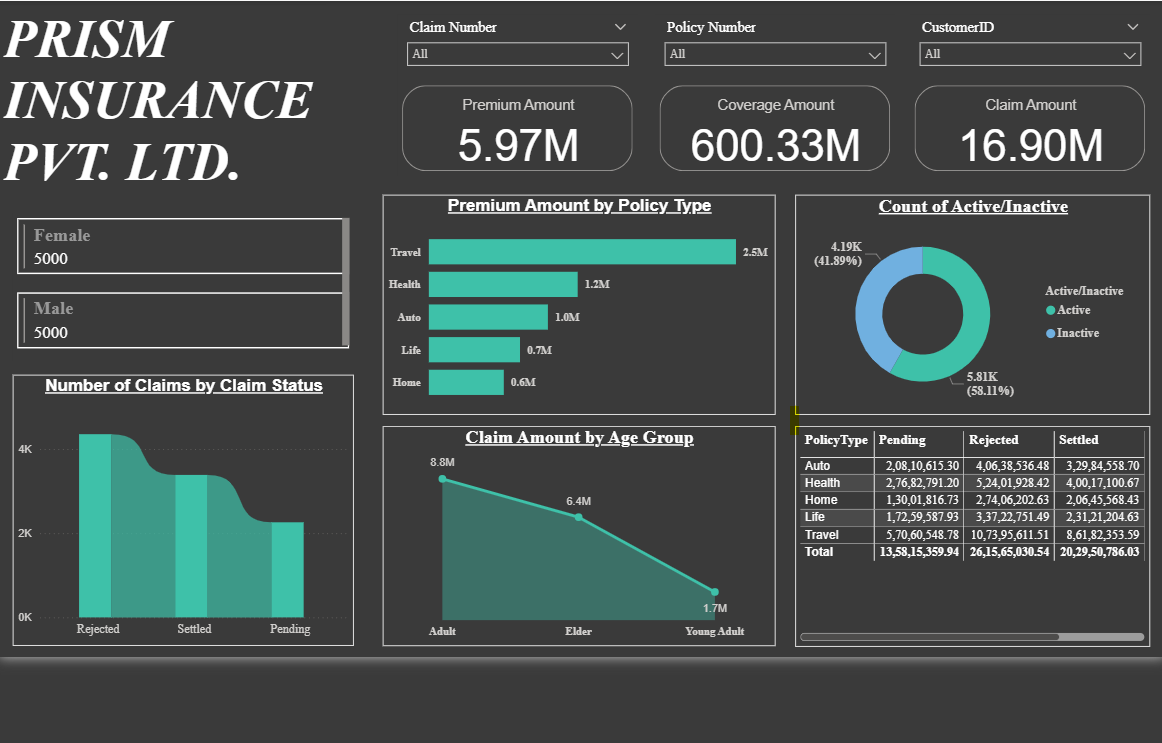

The dashboard page shown, as its layout file describes it:
{"tool":"powerbi","page":{"name":"Page 1","canvas":[1280,720],"ordinal":0},"visuals":[{"type":"slicer","fields":{"Values":["InsuranceData (2).ClaimNumber"]},"box":[437.7,15.1,263.5,72.7],"z":0},{"type":"textbox","box":[0,4.1,359.5,300.5],"z":1000},{"type":"slicer","fields":{"Values":["InsuranceData (2).PolicyNumber"]},"box":[720.4,15.1,263.5,72.7],"z":2000},{"type":"slicer","fields":{"Values":["InsuranceData (2).CustomerID"]},"box":[1000.3,15.1,263.5,72.7],"z":3000},{"type":"cardVisual","fields":{"Data":["Sum(InsuranceData (2).PremiumAmount)"]},"box":[437.7,87.8,263.5,104.3],"z":4000},{"type":"cardVisual","fields":{"Data":["Sum(InsuranceData (2).CoverageAmount)"]},"box":[720.4,87.8,263.5,104.3],"z":5000},{"type":"cardVisual","fields":{"Data":["Sum(InsuranceData (2).ClaimAmount)"]},"box":[1000.3,87.8,263.5,104.3],"z":6000},{"type":"multiRowCard","fields":{"Values":["InsuranceData (2).Gender","CountNonNull(InsuranceData (2).Gender)"]},"box":[15.1,233.3,374.6,161.9],"z":7000},{"type":"ribbonChart","title":"Number of Claims by Claim Status","fields":{"Category":["InsuranceData (2).ClaimStatus"],"Y":["CountNonNull(InsuranceData (2).ClaimStatus)"]},"box":[15.1,410.3,374.6,297.8],"z":8000},{"type":"barChart","title":"Premium Amount by Policy Type","fields":{"Category":["InsuranceData (2).PolicyType"],"Y":["Sum(InsuranceData (2).PremiumAmount)"]},"box":[421.3,212.7,430.9,241.5],"z":9000},{"type":"lineChart","title":"Claim Amount by Age Group","fields":{"Category":["InsuranceData (2).Age Group"],"Y":["Sum(InsuranceData (2).ClaimAmount)"]},"box":[421.3,466.6,430.9,241.5],"z":10000},{"type":"donutChart","title":"Count of Active/Inactive","fields":{"Category":["InsuranceData (2).Active/Inactive"],"Y":["CountNonNull(InsuranceData (2).Active/Inactive)"]},"box":[873.5,212.3,389.7,241.3],"z":11000},{"type":"pivotTable","fields":{"Values":["Sum(InsuranceData (2).CoverageAmount)"],"Rows":["InsuranceData (2).PolicyType"],"Columns":["InsuranceData (2).ClaimStatus"]},"box":[873.5,466.9,389.7,242.5],"z":12000}]}

Visuals, with their boxes on the page's 1280x720 design canvas (x1, y1, x2, y2). These are canvas units, not pixel positions in the 1162x743 screenshot, which may show the page scaled, cropped or inside an application window:
slicer - InsuranceData (2).ClaimNumber: <bbox>438, 15, 701, 88</bbox>
textbox: <bbox>0, 4, 360, 305</bbox>
slicer - InsuranceData (2).PolicyNumber: <bbox>720, 15, 984, 88</bbox>
slicer - InsuranceData (2).CustomerID: <bbox>1000, 15, 1264, 88</bbox>
cardVisual - Sum(InsuranceData (2).PremiumAmount): <bbox>438, 88, 701, 192</bbox>
cardVisual - Sum(InsuranceData (2).CoverageAmount): <bbox>720, 88, 984, 192</bbox>
cardVisual - Sum(InsuranceData (2).ClaimAmount): <bbox>1000, 88, 1264, 192</bbox>
multiRowCard - InsuranceData (2).Gender x CountNonNull(InsuranceData (2).Gender): <bbox>15, 233, 390, 395</bbox>
"Number of Claims by Claim Status" ribbonChart: <bbox>15, 410, 390, 708</bbox>
"Premium Amount by Policy Type" barChart: <bbox>421, 213, 852, 454</bbox>
"Claim Amount by Age Group" lineChart: <bbox>421, 467, 852, 708</bbox>
"Count of Active/Inactive" donutChart: <bbox>874, 212, 1263, 454</bbox>
pivotTable - Sum(InsuranceData (2).CoverageAmount) x InsuranceData (2).PolicyType: <bbox>874, 467, 1263, 709</bbox>
